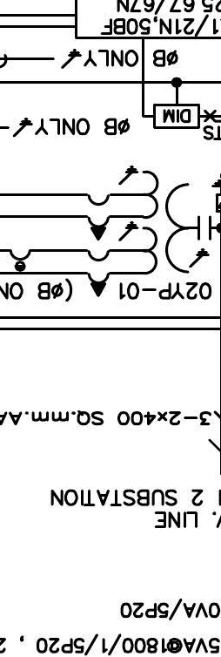115_cvt_1p: (85, 164, 212, 298)
DIM: (153, 103, 200, 129)
